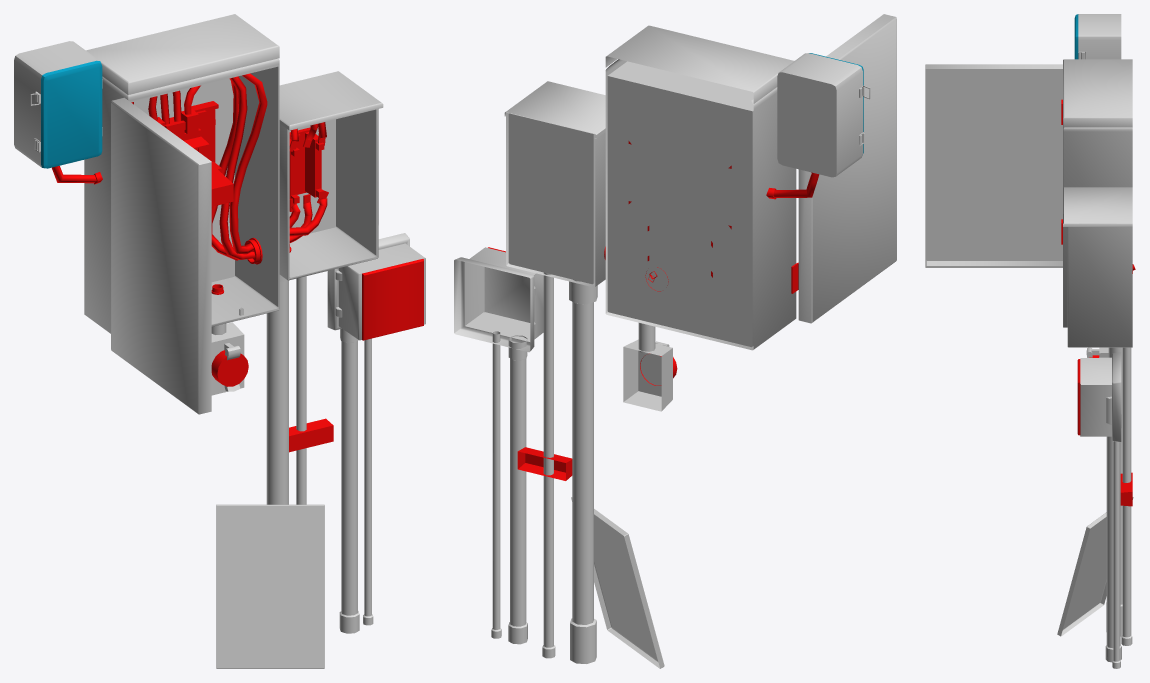
File: Tz-ExteriorElectricBox2.fbx
3 views of the same model, side by side, from view 1: azimuth 30°, elevation 25°; view 2: azimuth 150°, elevation 25°; view 3: azimuth 270°, elevation 25° (orthographic). The views are drawn at different scales.
Parts seen in each view (by area): view 1: UnicueTexture; view 2: UnicueTexture; view 3: UnicueTexture.
Part boxes in pixels (bbox=[...]): UnicueTexture: bbox=[14, 14, 425, 668]; UnicueTexture: bbox=[454, 14, 896, 668]; UnicueTexture: bbox=[925, 14, 1135, 668].
Size of the model in its own units: 79.2 by 45.3 by 123.
